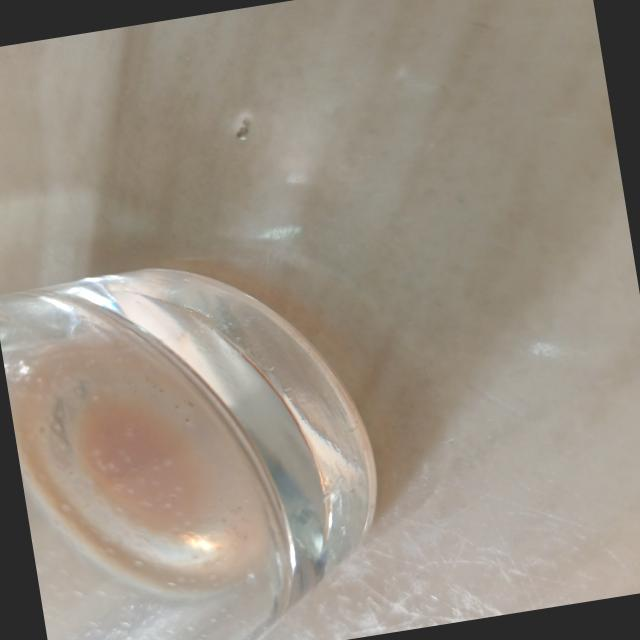glass-VX4N: (0, 221, 401, 640)
